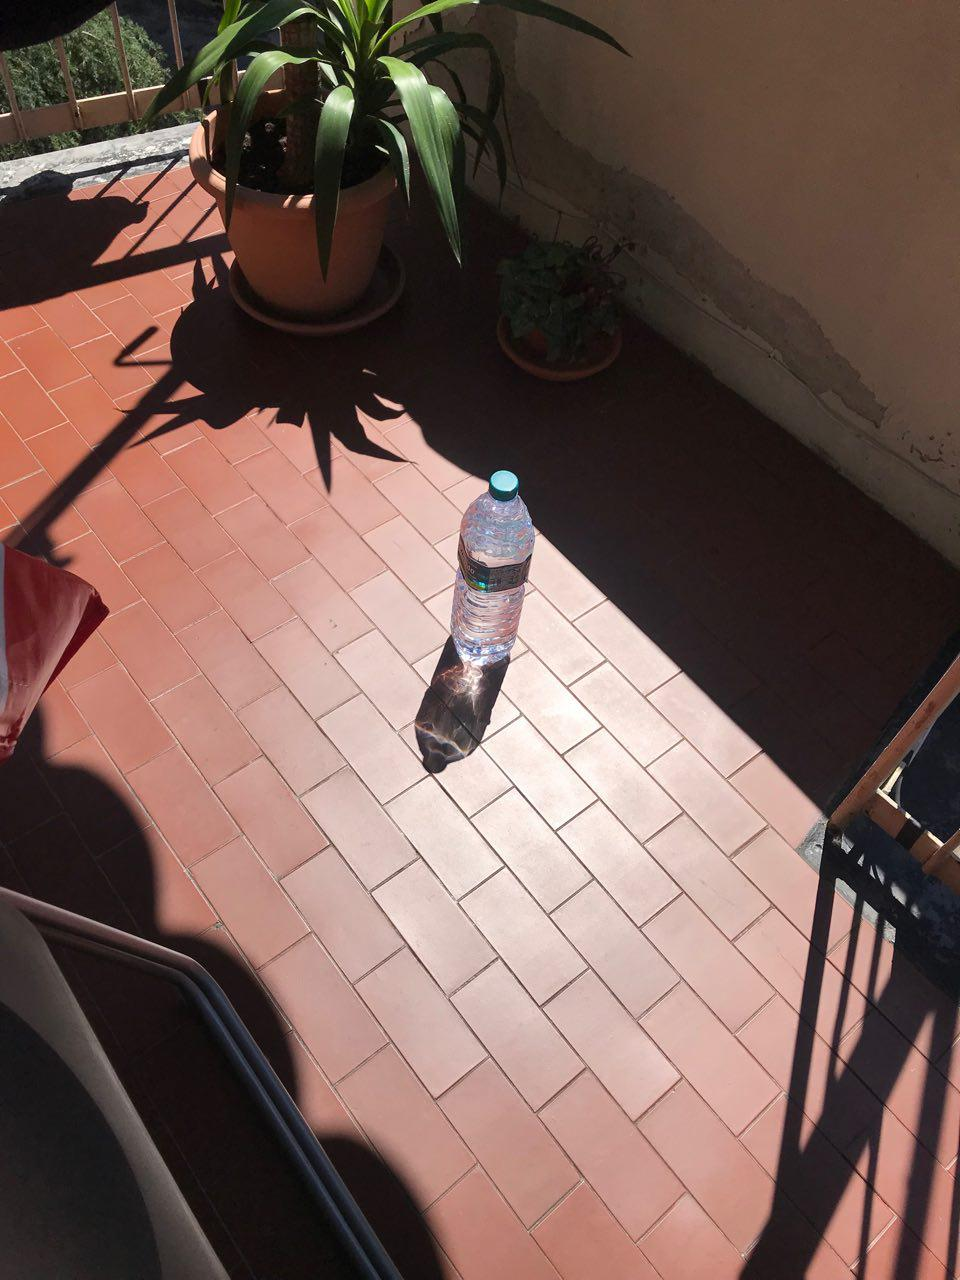san_bernardo: (449, 469, 536, 666)
